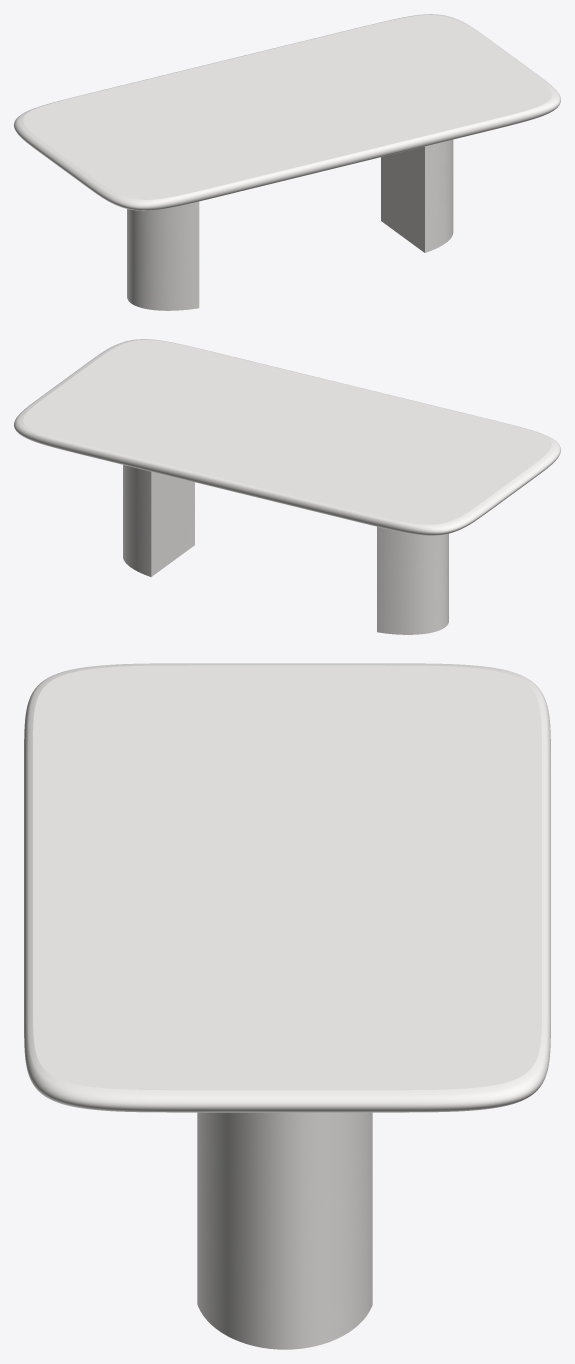
File: purewhite_softrecta_round_hillside.glb
3 renders of one model, top to bottom at view 1: azimuth 30°, elevation 25°; view 2: azimuth 150°, elevation 25°; view 3: azimuth 270°, elevation 25°, orthographic. The views are drawn at different scales.
Parts seen in each view (by area): view 1: round_softrecta, hillside; view 2: round_softrecta, hillside; view 3: round_softrecta, hillside.
Boxes of the visible parts, x1,y1,x2,y2 form: round_softrecta: (14,14,560,210); hillside: (127,139,453,310); round_softrecta: (14,339,560,535); hillside: (123,465,448,634); round_softrecta: (24,663,550,1112); hillside: (197,1112,372,1349).
Size of the model in its own units: 7.5 by 2.5 by 3.8.
1 material, 1 textured.
